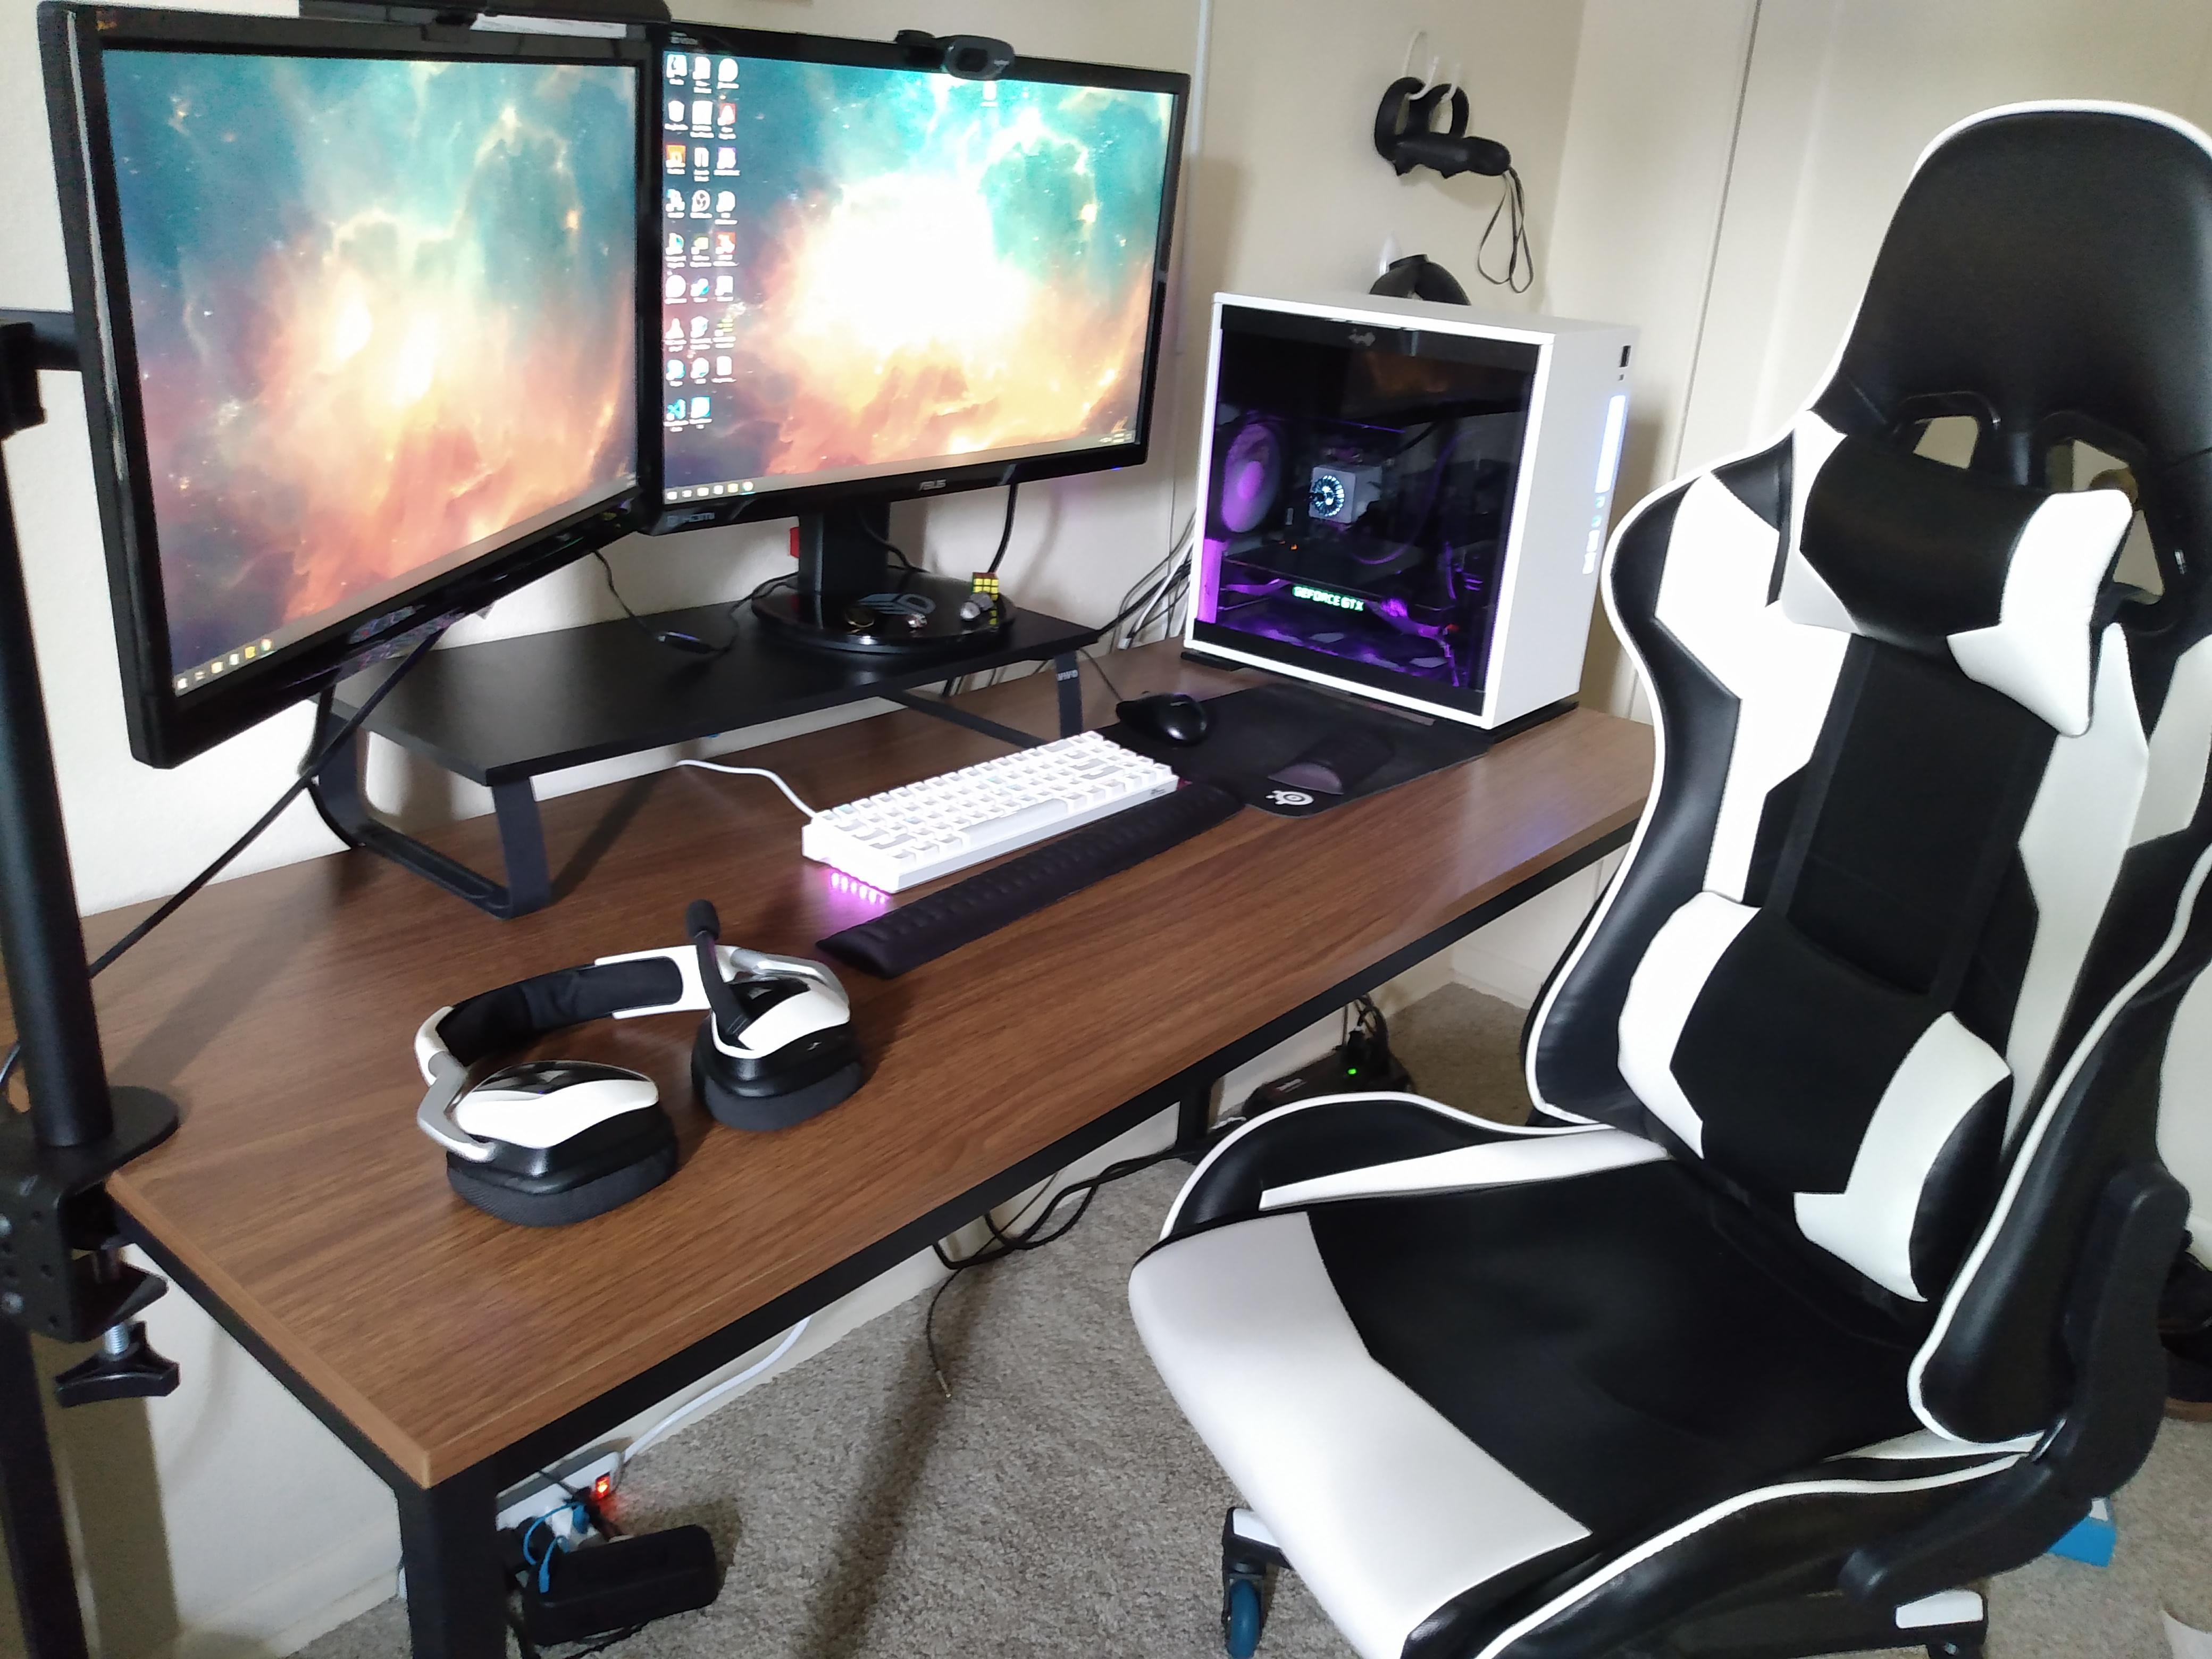Chair (Gaming): (1127, 98, 2212, 1659)
Decoration (Rubric's Cube): (970, 572, 1000, 603)
Desk (Generic): (0, 619, 1716, 1659)
Desktop (Windows): (1181, 289, 1642, 741)
External Webcam: (897, 26, 1014, 82)
Headphones (with Microphone): (406, 903, 866, 1227)
Keyboard (Gaming): (799, 730, 1181, 896)
Monitor (Landscape): (38, 0, 657, 770), (643, 0, 1191, 537)
Monitor Arm: (0, 301, 181, 1408)
Mouse (Generic): (1115, 690, 1209, 746)
Mousepad (Generic): (1097, 681, 1489, 817)
Power Strip: (388, 1452, 624, 1598)
